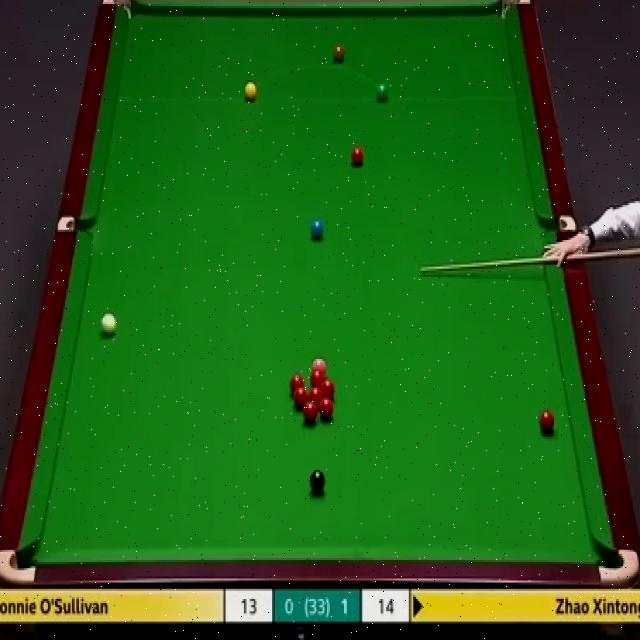black-ball: (308, 468, 325, 497)
blue-ball: (310, 220, 324, 241)
brown-ball: (332, 44, 346, 64)
green-ball: (375, 83, 390, 105)
pink-ball: (311, 356, 328, 369)
red-ball: (538, 409, 556, 436), (319, 399, 334, 422), (304, 401, 318, 423), (321, 378, 334, 401), (290, 374, 304, 395), (307, 386, 323, 403), (311, 368, 326, 386), (294, 389, 308, 407), (352, 146, 364, 166)
white-ball: (99, 312, 117, 338)
yellow-ball: (244, 82, 257, 102)
